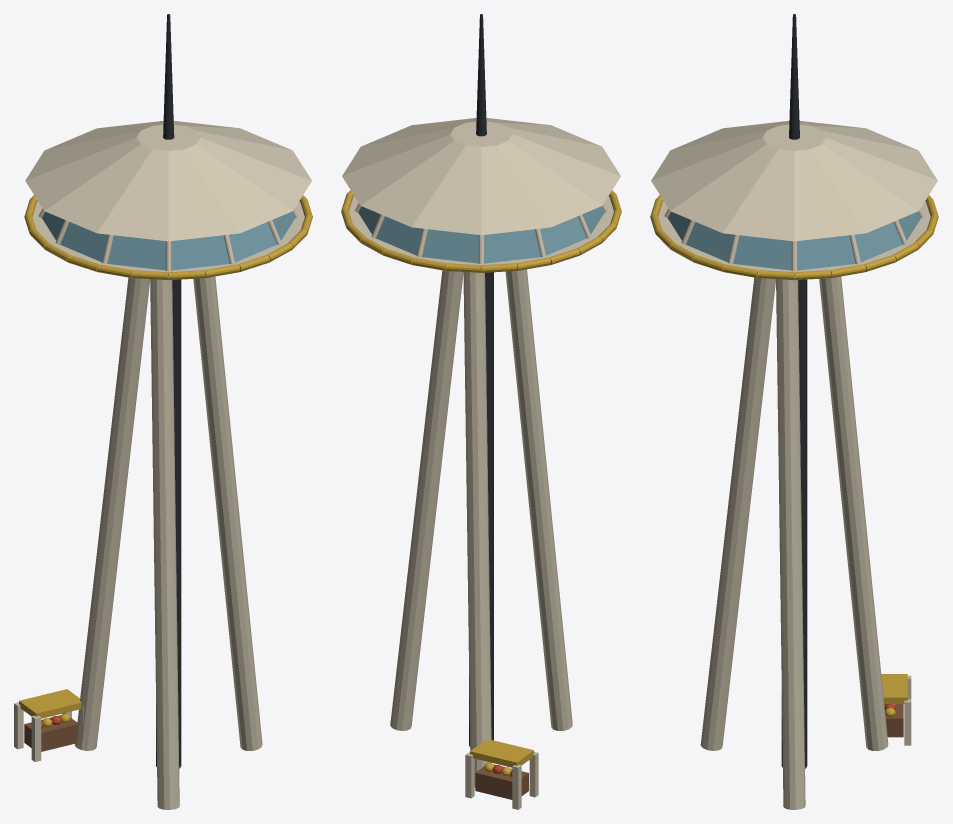
The model's file is space-noodle.glb.
3 renders of one model, left to right at view 1: azimuth 30°, elevation 25°; view 2: azimuth 150°, elevation 25°; view 3: azimuth 270°, elevation 25°, orthographic. The views are drawn at different scales.
Visible parts, largest first — view 1: space-noodle; view 2: space-noodle; view 3: space-noodle.
Part boxes in pixels (x1,y1,x2,y2): space-noodle: [14, 14, 312, 809]; space-noodle: [341, 14, 621, 809]; space-noodle: [650, 14, 938, 809].
Bounding box in the file's own units: 18.1 × 52.08 × 18.1.
